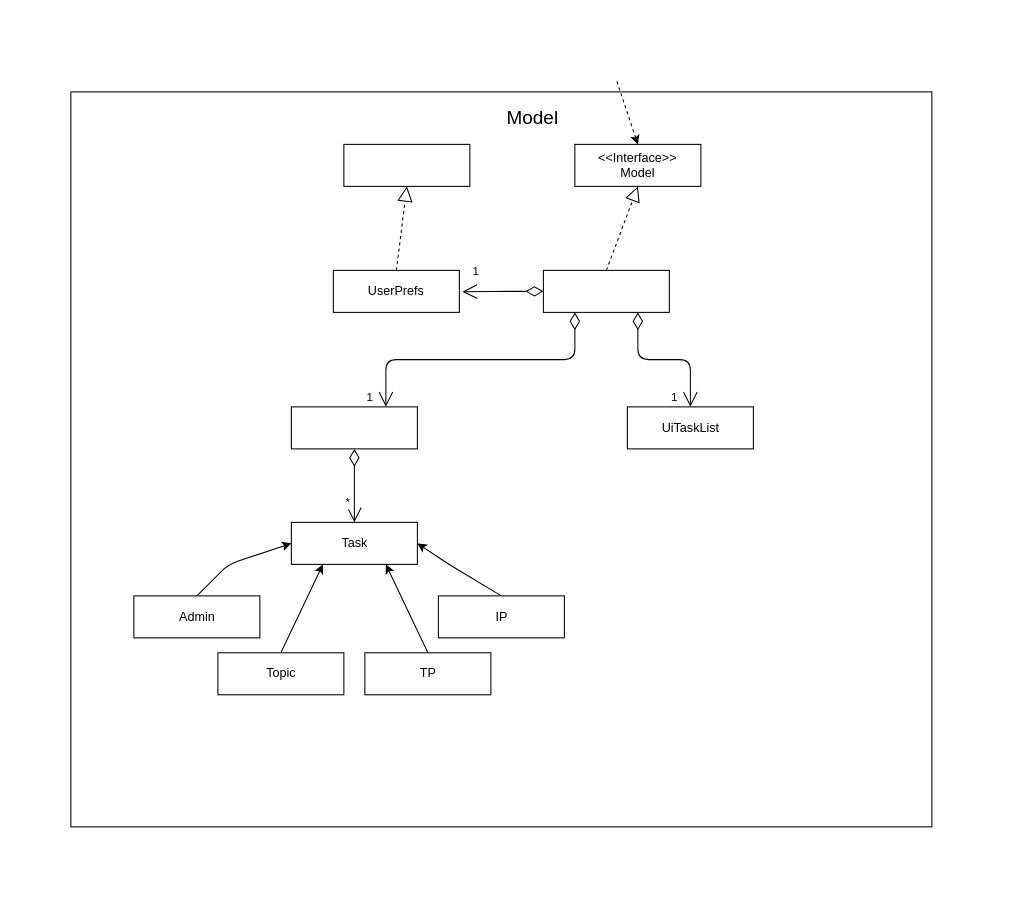
The diagram is 1023 pixels wide and 907 high, and some of its shapes have lost their labels. Each missing label, with the centre of its shape:
"<<Interface>> ReadOnlyUserPrefs" goes at point 406,164.
"ModelManager" goes at point 605,290.
"TaskList" goes at point 353,427.
